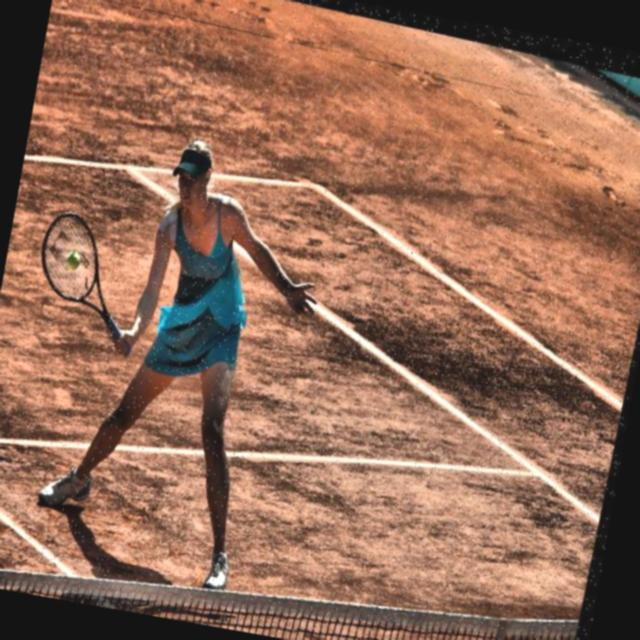tennis-ball: (64, 246, 86, 273)
